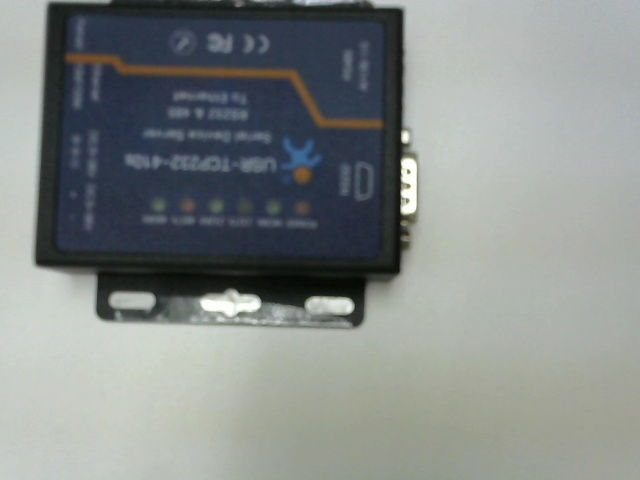modbus bridge: (35, 1, 441, 348)
